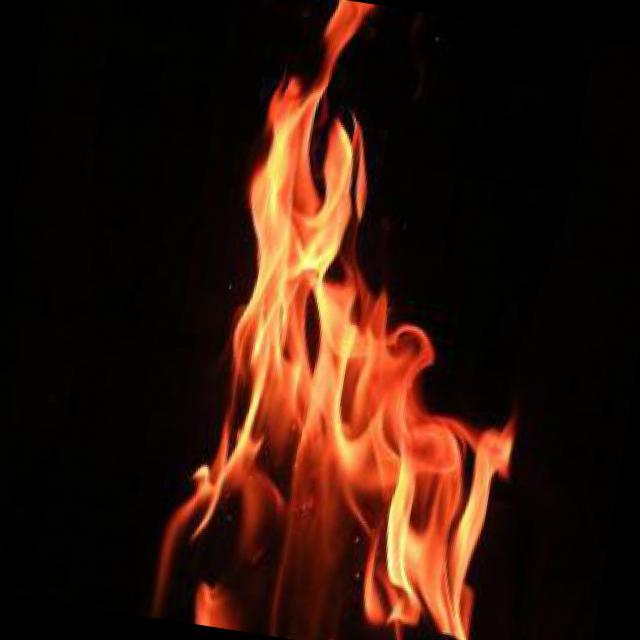fire: (143, 0, 600, 640)
